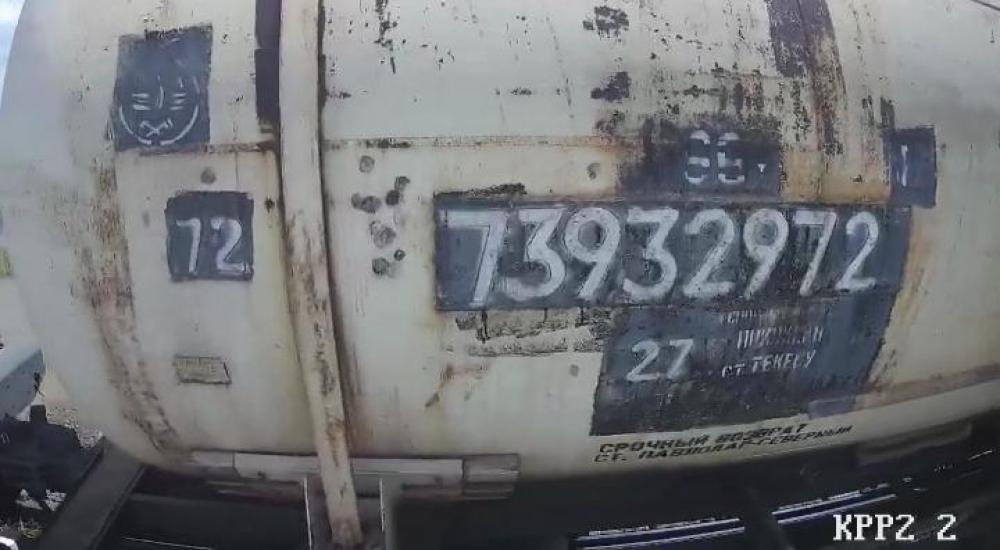Wagon-number: (440, 198, 891, 309)
